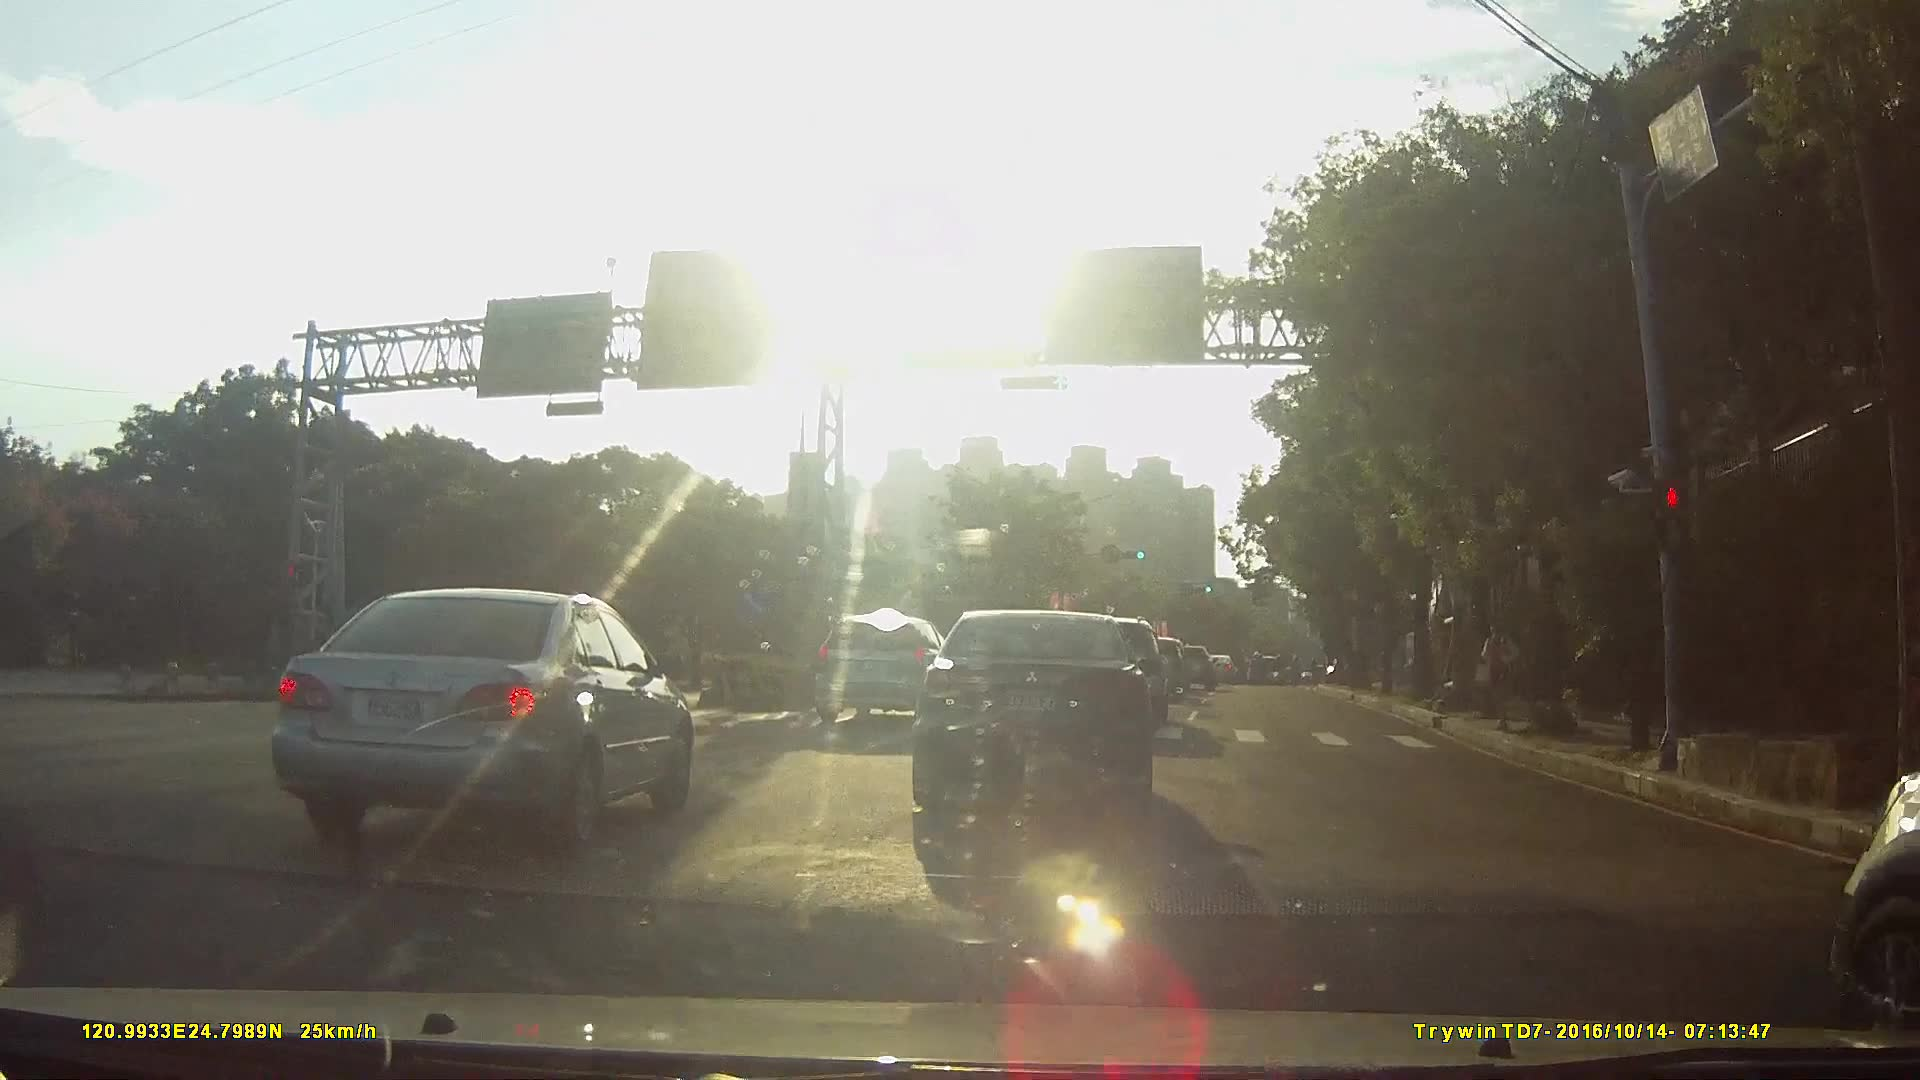pedestrian: (1474, 617, 1526, 729)
vehicle: (250, 580, 693, 851), (897, 608, 1167, 817), (807, 609, 951, 722), (1163, 641, 1210, 687), (1198, 651, 1233, 679)
